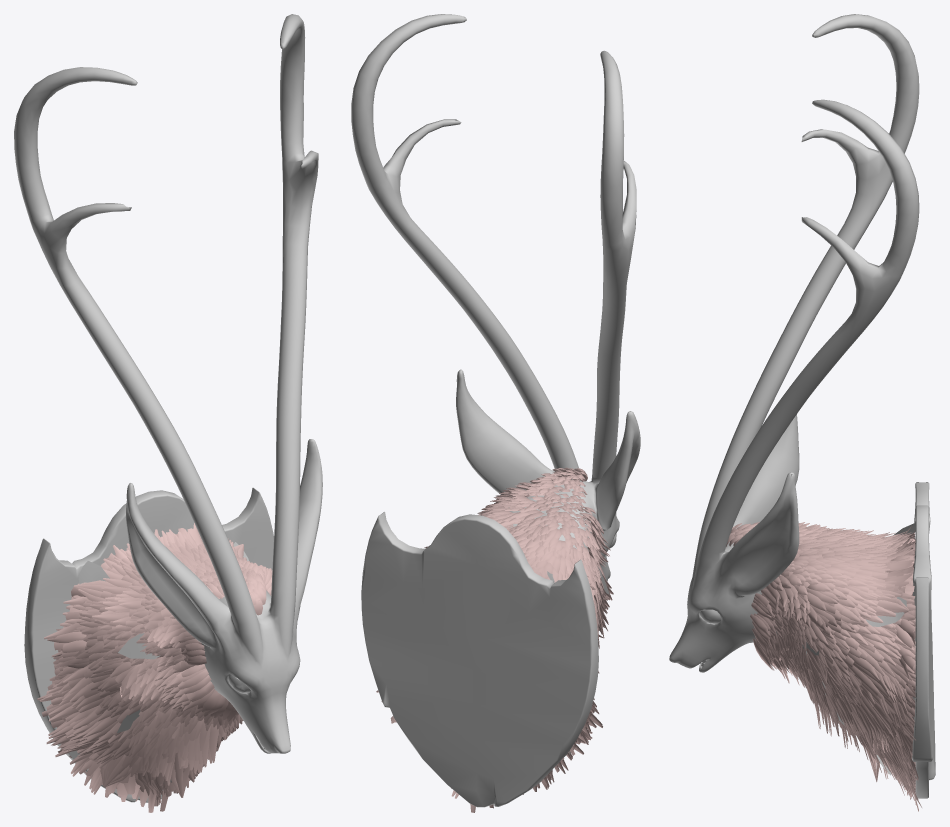
3 renders of one model, left to right at view 1: azimuth 30°, elevation 25°; view 2: azimuth 150°, elevation 25°; view 3: azimuth 270°, elevation 25°, orthographic. The views are drawn at different scales.
Visible parts, largest first — view 1: SM_Taxidermy_Trophy_Head_Deer_02_LOD0; view 2: SM_Taxidermy_Trophy_Head_Deer_02_LOD0; view 3: SM_Taxidermy_Trophy_Head_Deer_02_LOD0.
Part boxes in pixels (box(x1,y1,x2,y2)): SM_Taxidermy_Trophy_Head_Deer_02_LOD0: box(14, 14, 322, 812); SM_Taxidermy_Trophy_Head_Deer_02_LOD0: box(351, 14, 640, 812); SM_Taxidermy_Trophy_Head_Deer_02_LOD0: box(669, 14, 935, 811).
Size of the model in its own units: 0.9133 by 2.43 by 0.7844.
